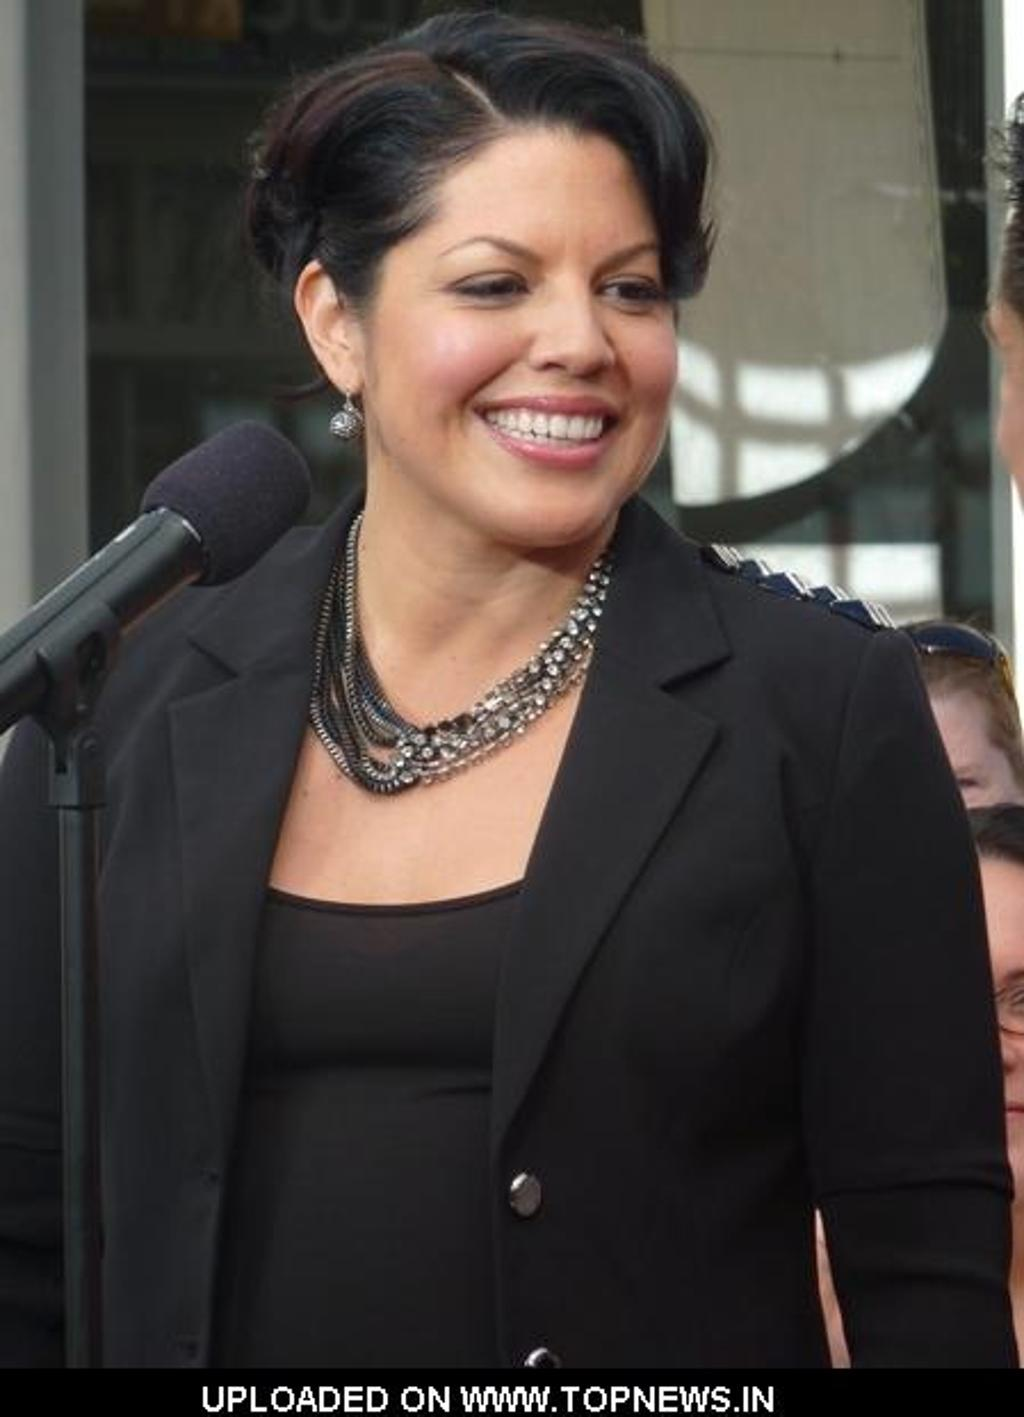face: (371, 130, 673, 548), (858, 648, 1013, 878)
